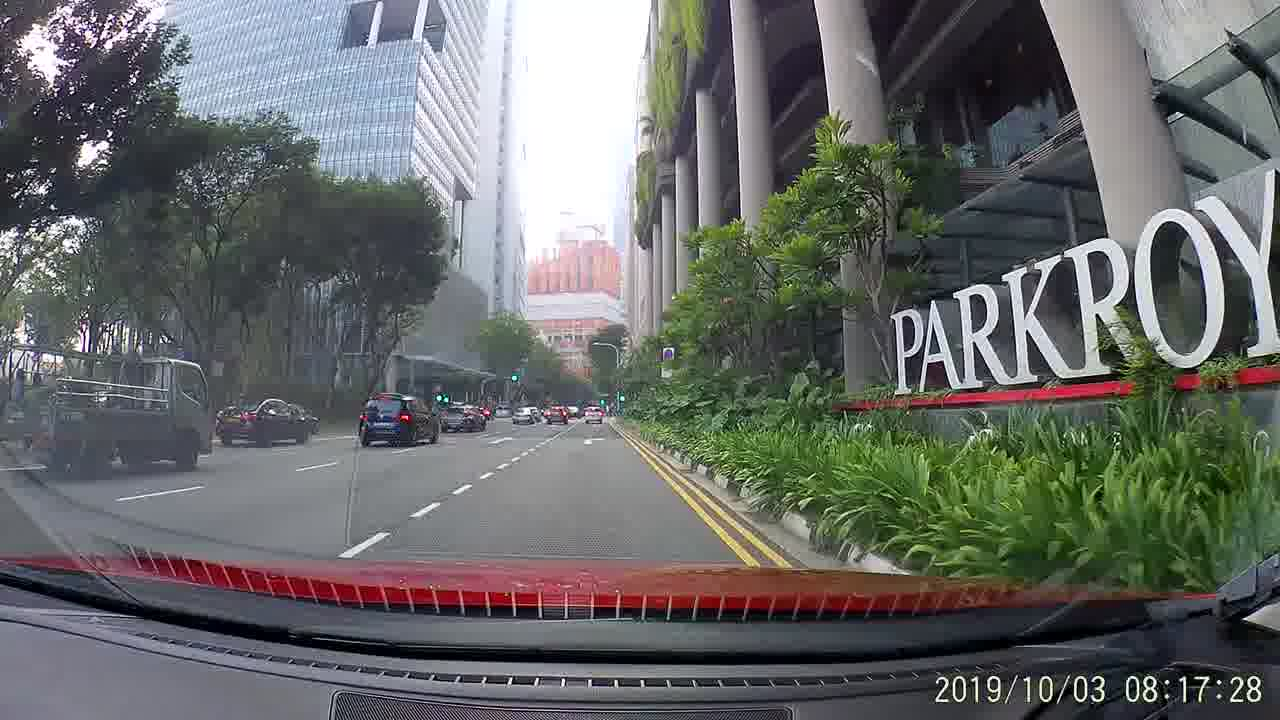car: (215, 396, 313, 448), (356, 390, 440, 445), (436, 404, 486, 435), (541, 404, 568, 424), (510, 407, 545, 422), (581, 404, 605, 425)
